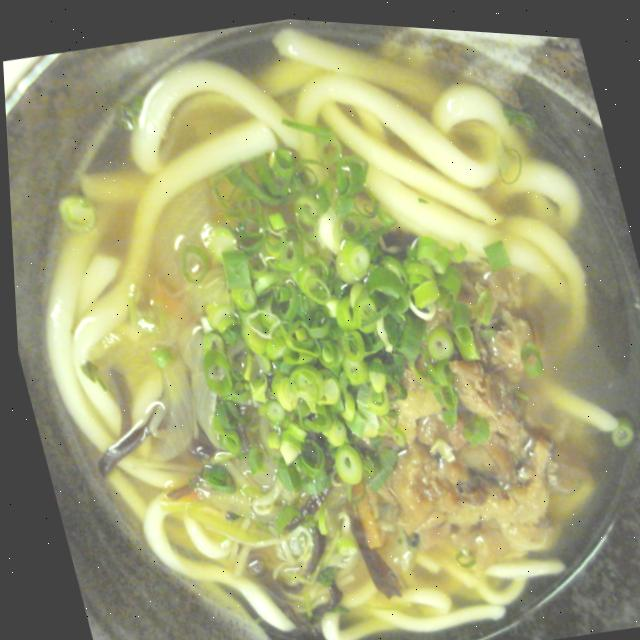面条主食: (199, 48, 640, 640)
